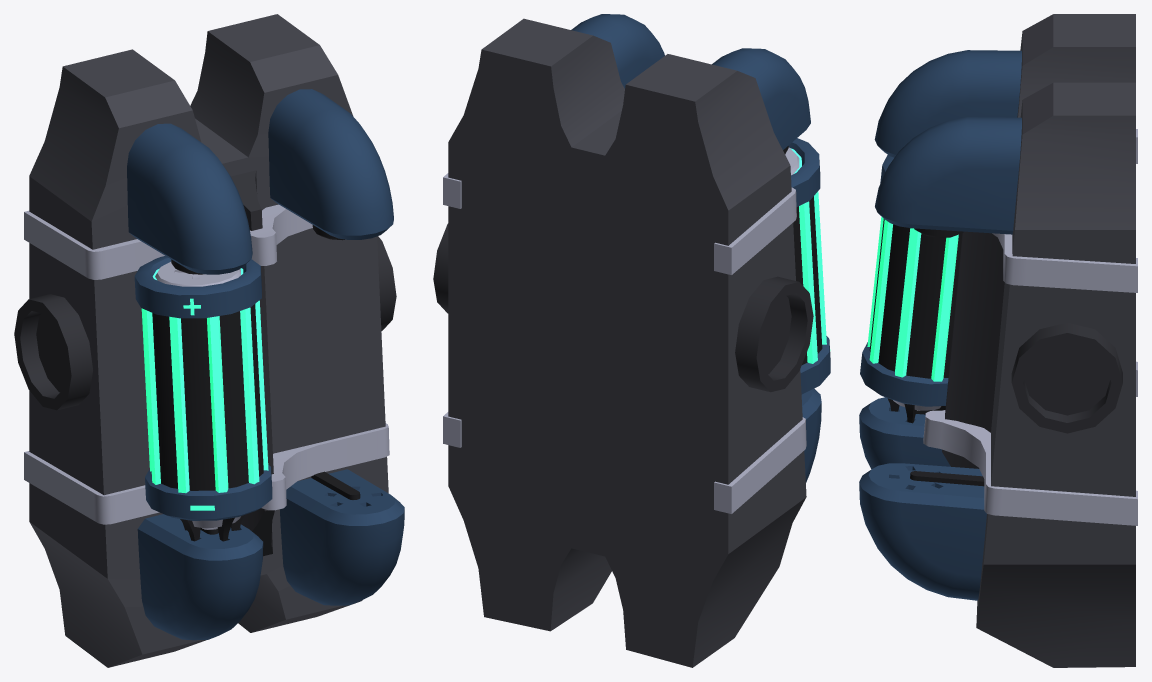
Rendered from Misc_BatteryCharger_X2_C.fbx.
The picture shows the model from 3 angles, left to right: view 1: azimuth 30°, elevation 25°; view 2: azimuth 150°, elevation 25°; view 3: azimuth 270°, elevation 25°; orthographic projection. The views are drawn at different scales.
Visible parts, largest first — view 1: Misc_BatteryCharger_X2_C.001; view 2: Misc_BatteryCharger_X2_C.001; view 3: Misc_BatteryCharger_X2_C.001.
Boxes of the visible parts, box(x1,y1,x2,y2) form: Misc_BatteryCharger_X2_C.001: box(14, 14, 404, 667); Misc_BatteryCharger_X2_C.001: box(433, 14, 830, 667); Misc_BatteryCharger_X2_C.001: box(859, 14, 1137, 667).
Size of the model in its own units: 0.1841 by 0.3091 by 0.141.
